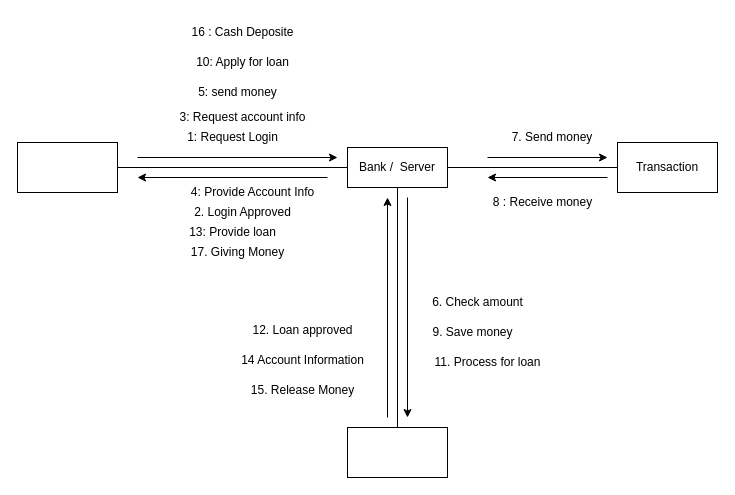
Some shapes in this 735 by 495 pixel diagram are drawn without their labels. The box of each missing label's shape, as (x1, y1, x2, y2) in pixels:
Account: (346, 426, 448, 478)
User: (16, 142, 118, 192)
